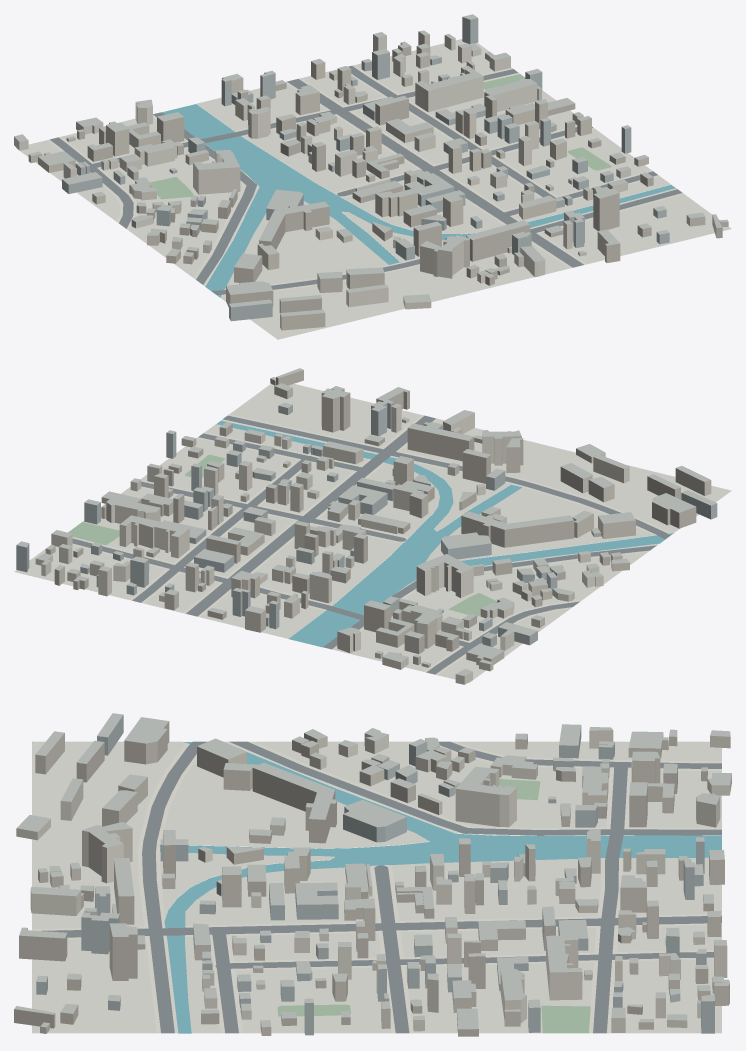
3 renders of one model, top to bottom at view 1: azimuth 30°, elevation 25°; view 2: azimuth 150°, elevation 25°; view 3: azimuth 270°, elevation 25°, orthographic. The views are drawn at different scales.
Visible parts, largest first — view 1: city; view 2: city; view 3: city.
Boxes of the visible parts, left/top/right/bottom form: city: left=14, top=14, right=731, bottom=339; city: left=14, top=368, right=731, bottom=684; city: left=14, top=713, right=731, bottom=1036.
Bounding box in the file's own units: 524 × 35.48 × 520.
